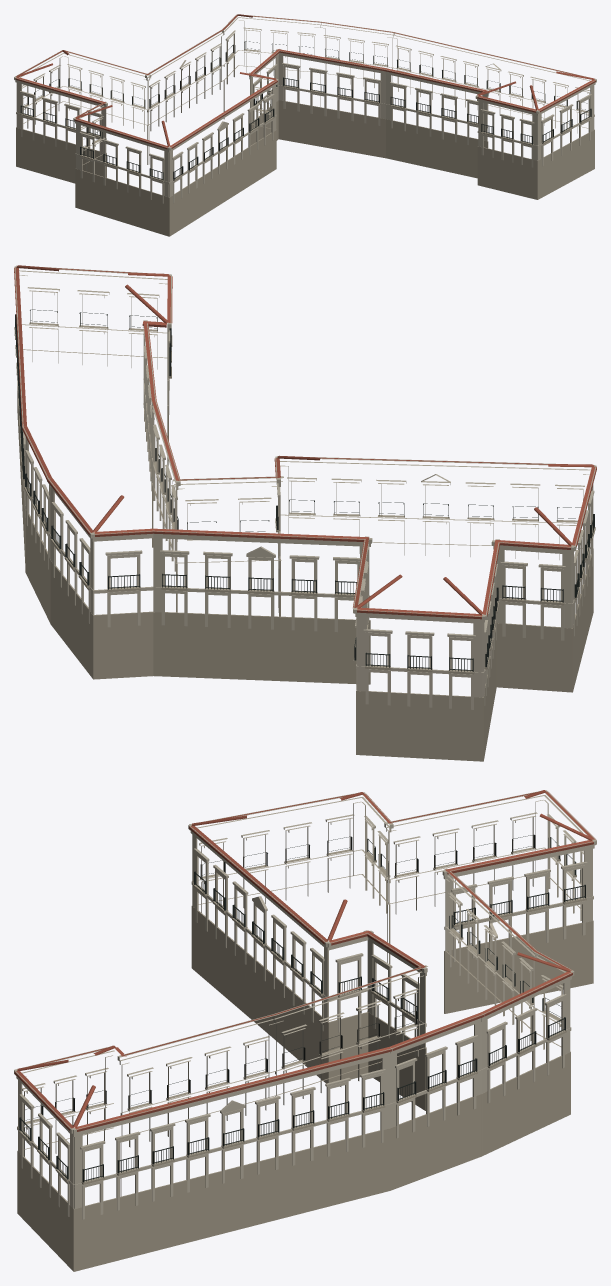
3 renders of one model, top to bottom at view 1: azimuth 30°, elevation 25°; view 2: azimuth 150°, elevation 25°; view 3: azimuth 270°, elevation 25°, orthographic. The views are drawn at different scales.
Parts seen in each view (by area): view 1: detail; view 2: detail; view 3: detail.
Boxes of the visible parts, <box> form: detail: <box>14,14,596,236</box>; detail: <box>14,265,596,761</box>; detail: <box>14,790,596,1271</box>.
Bounding box in the file's own units: 53.82 × 11.89 × 38.97.
